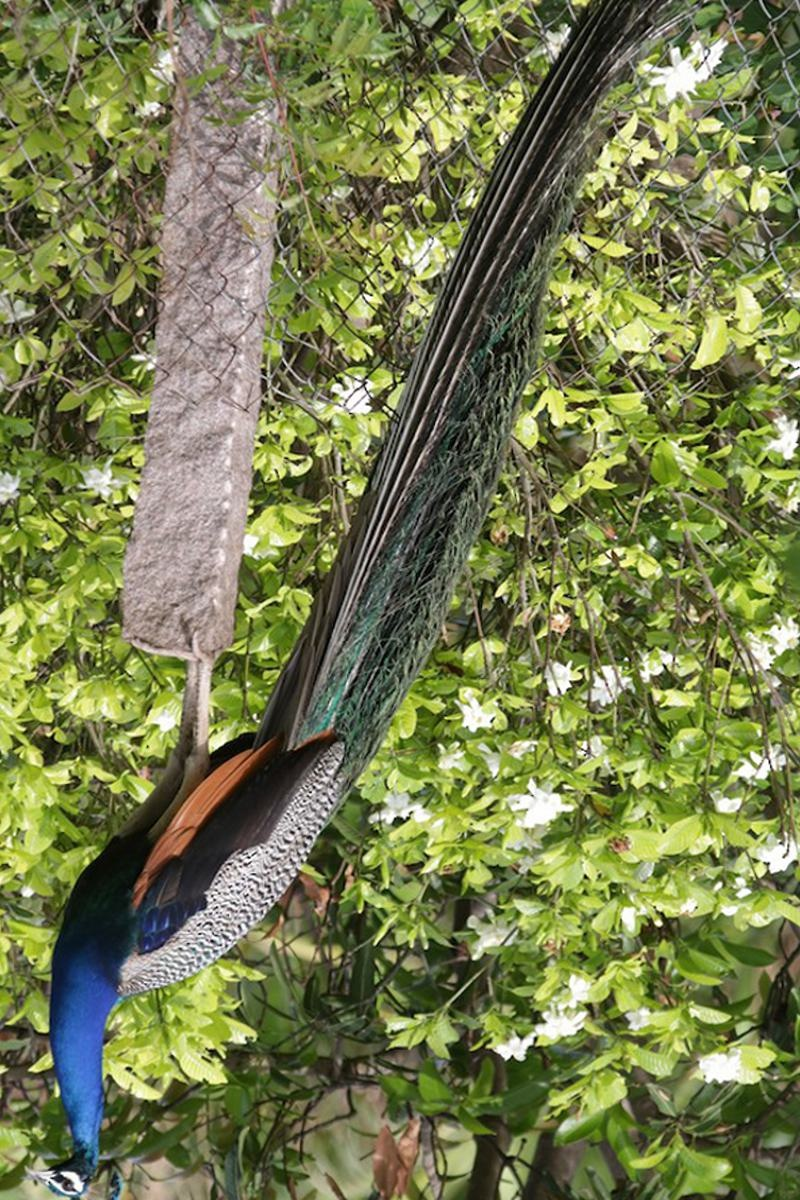peacock: (32, 209, 664, 1199)
